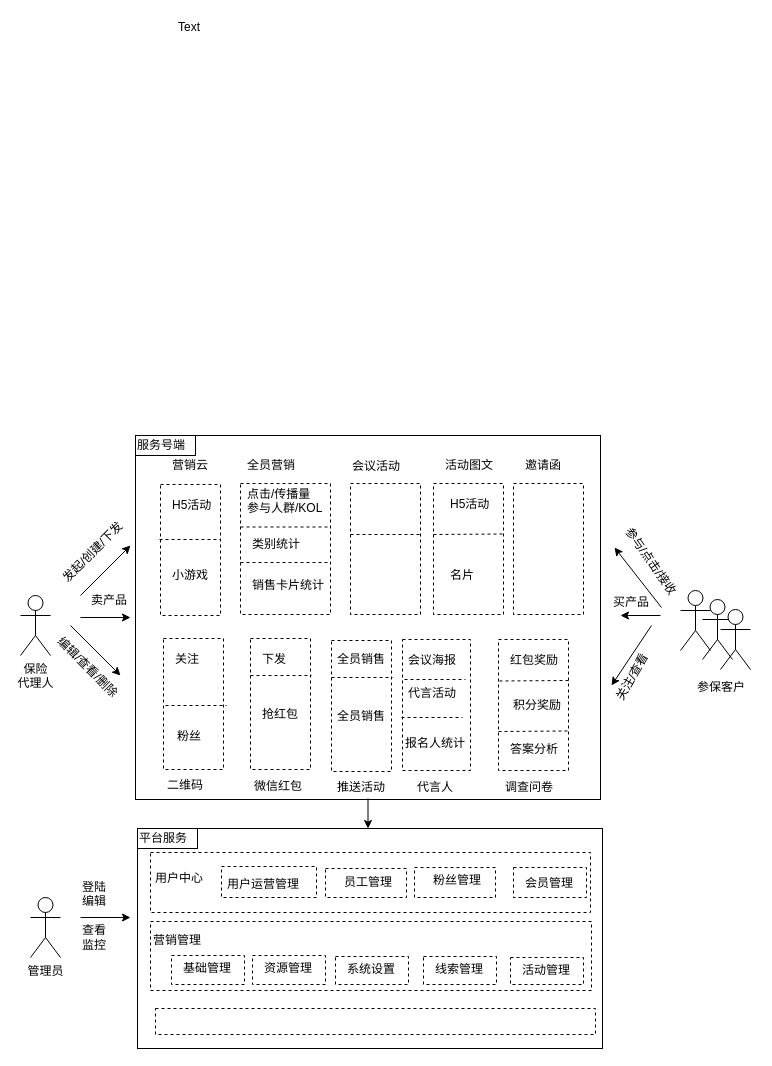
This 772x1066 diagram has some shape labels left out. Each missing label, with the centre of its shape:
全员营销 二维码参与: point (385, 548)
数据中心：数据分析用户画像，行为轨迹: point (375, 1021)
邀请卡: point (548, 548)
